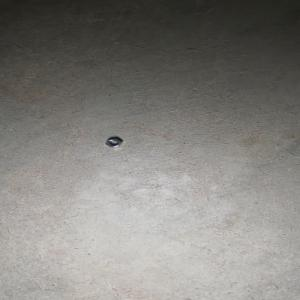Nut: (105, 137, 123, 147)
